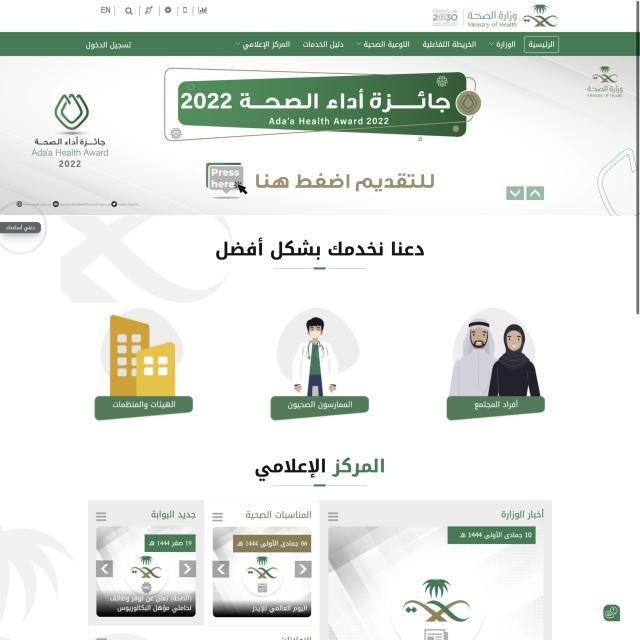logo: (429, 2, 562, 29)
navigation: (0, 32, 637, 55), (97, 2, 212, 18), (92, 508, 109, 524), (211, 510, 225, 523), (326, 510, 341, 522)
